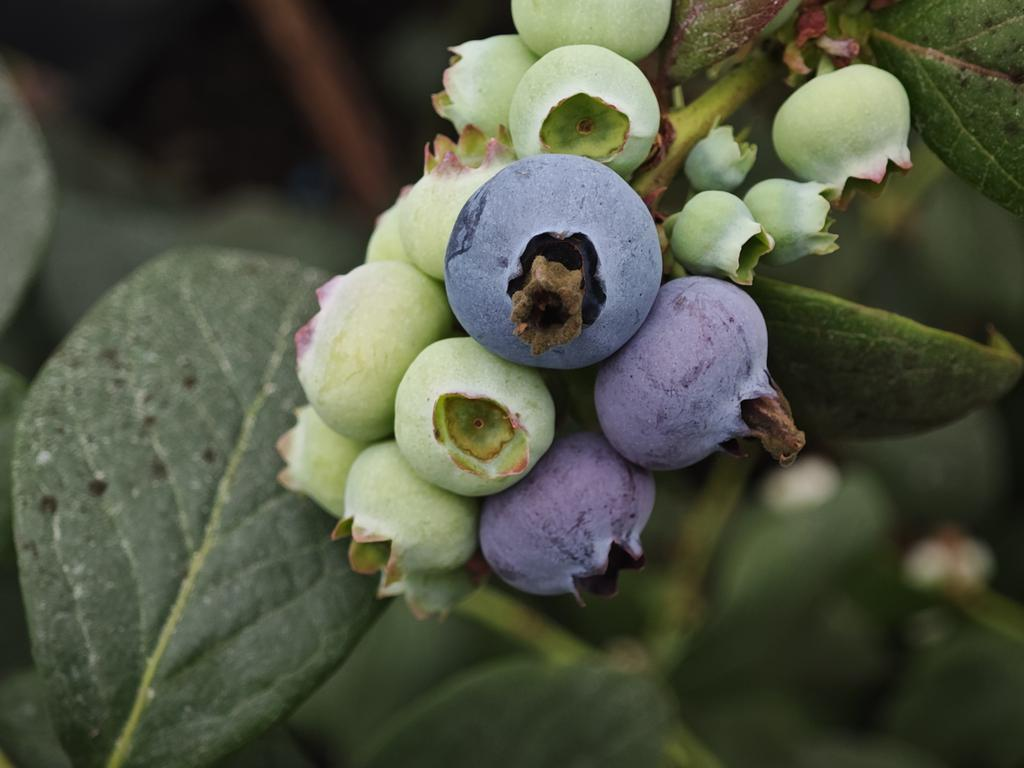RipeBlueBerry: (454, 151, 674, 364), (608, 269, 800, 487)
UnripeBlueBerry: (492, 441, 680, 601), (389, 342, 569, 502), (286, 248, 444, 424), (771, 68, 920, 191)
